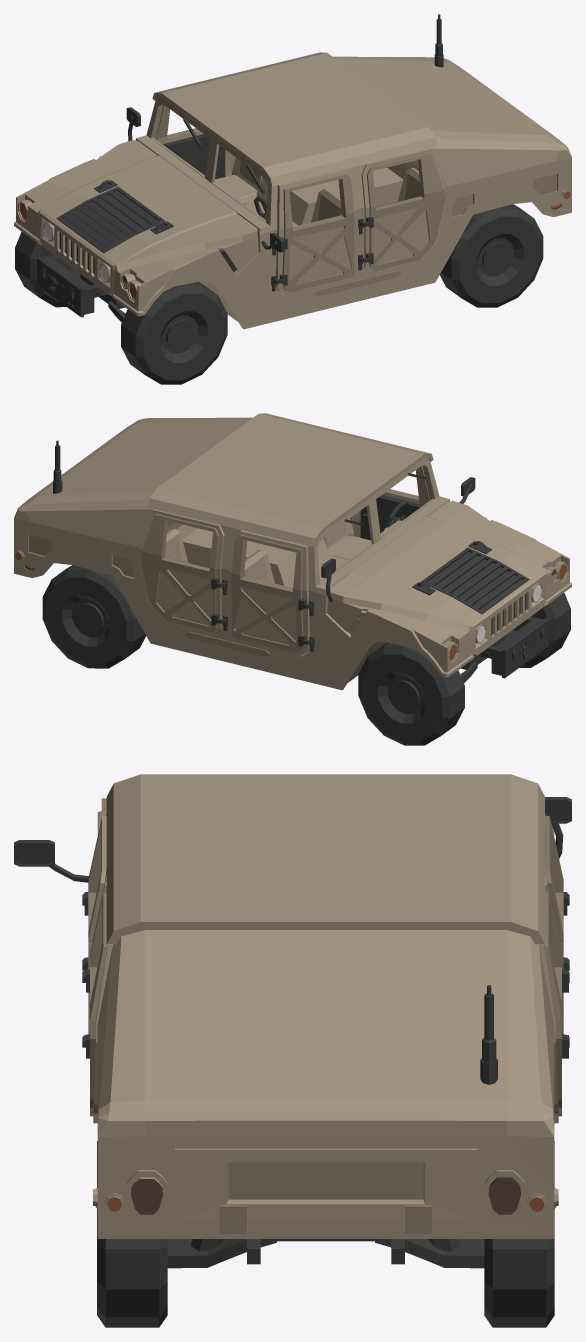
The model's file is result.gltf.
The picture shows the model from 3 angles, top to bottom: view 1: azimuth 30°, elevation 25°; view 2: azimuth 150°, elevation 25°; view 3: azimuth 270°, elevation 25°; orthographic projection. The views are drawn at different scales.
Visible parts, largest first — view 1: humvee.001; view 2: humvee.001; view 3: humvee.001.
Boxes of the visible parts, x1,y1,x2,y2 form: humvee.001: (14, 14, 571, 384); humvee.001: (14, 413, 571, 745); humvee.001: (14, 774, 571, 1327).
Bounding box in the file's own units: 4.68 × 2 × 2.7.
1 material, 1 textured.
